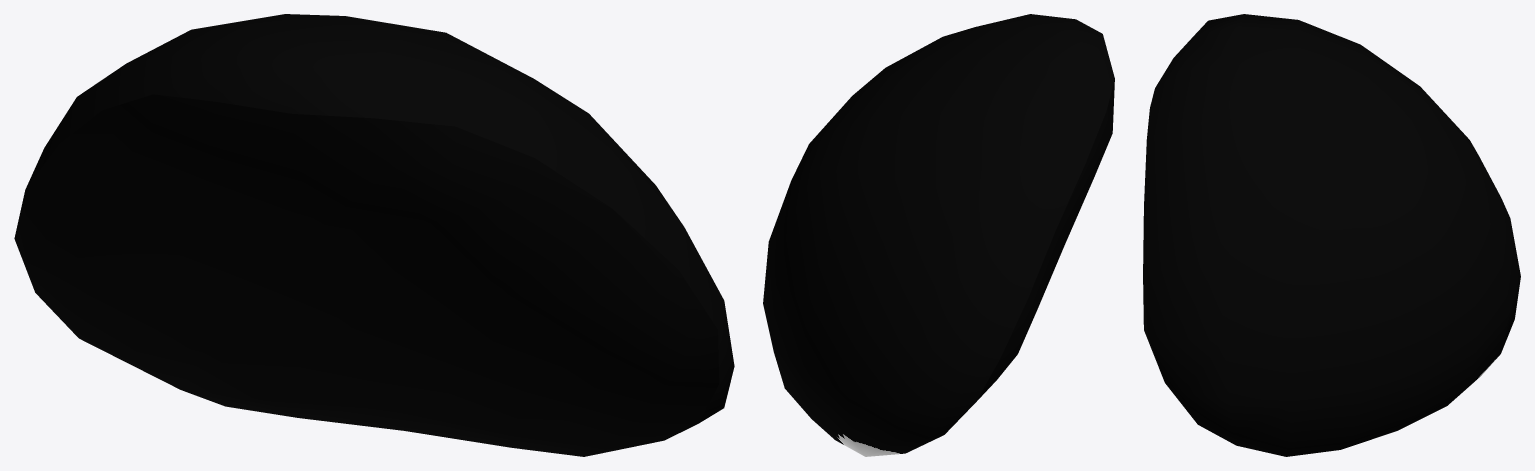
File: roundedrock.fbx
3 renders of one model, left to right at view 1: azimuth 30°, elevation 25°; view 2: azimuth 150°, elevation 25°; view 3: azimuth 270°, elevation 25°, orthographic. The views are drawn at different scales.
Visible parts, largest first — view 1: roundedrock; view 2: roundedrock; view 3: roundedrock.
Part boxes in pixels (bbox=[...]): roundedrock: bbox=[14, 14, 734, 456]; roundedrock: bbox=[763, 14, 1114, 456]; roundedrock: bbox=[1143, 14, 1520, 456].
Bounding box in the file's own units: 0.5416 × 0.5219 × 0.5405.
